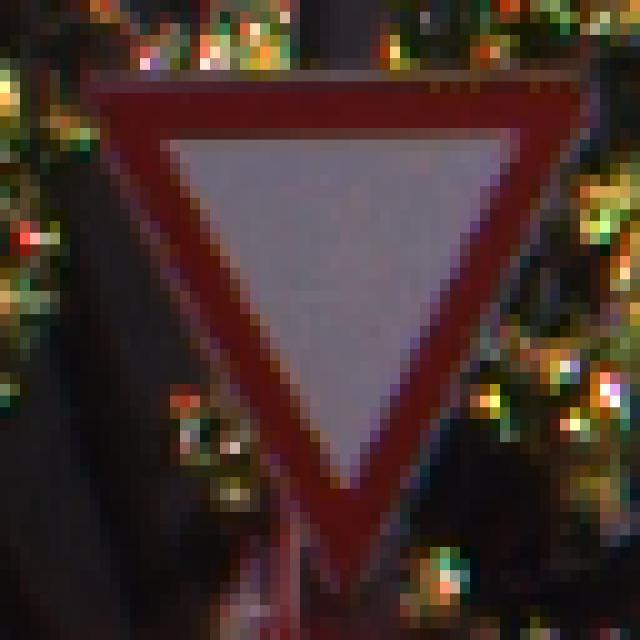Give Way: (61, 59, 591, 583)
